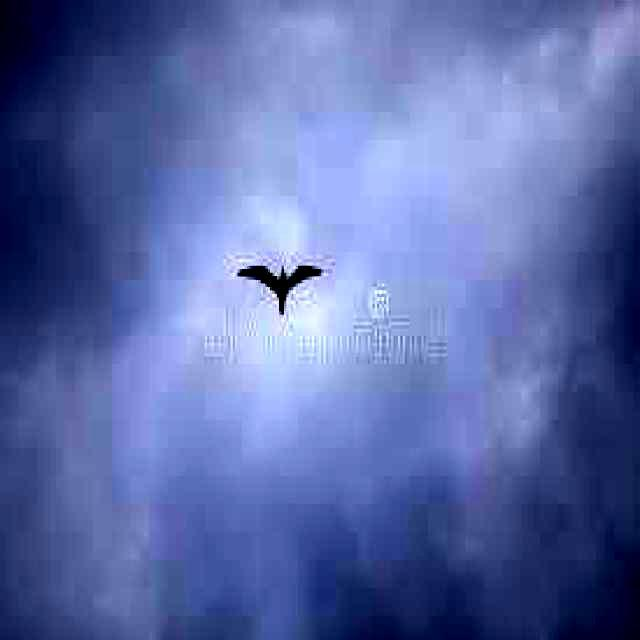bird: (230, 248, 324, 318)
